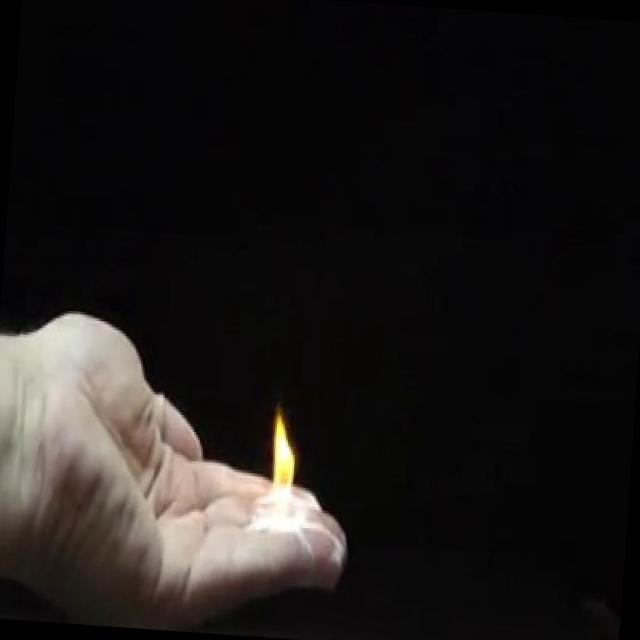Fire: (252, 398, 304, 534)
